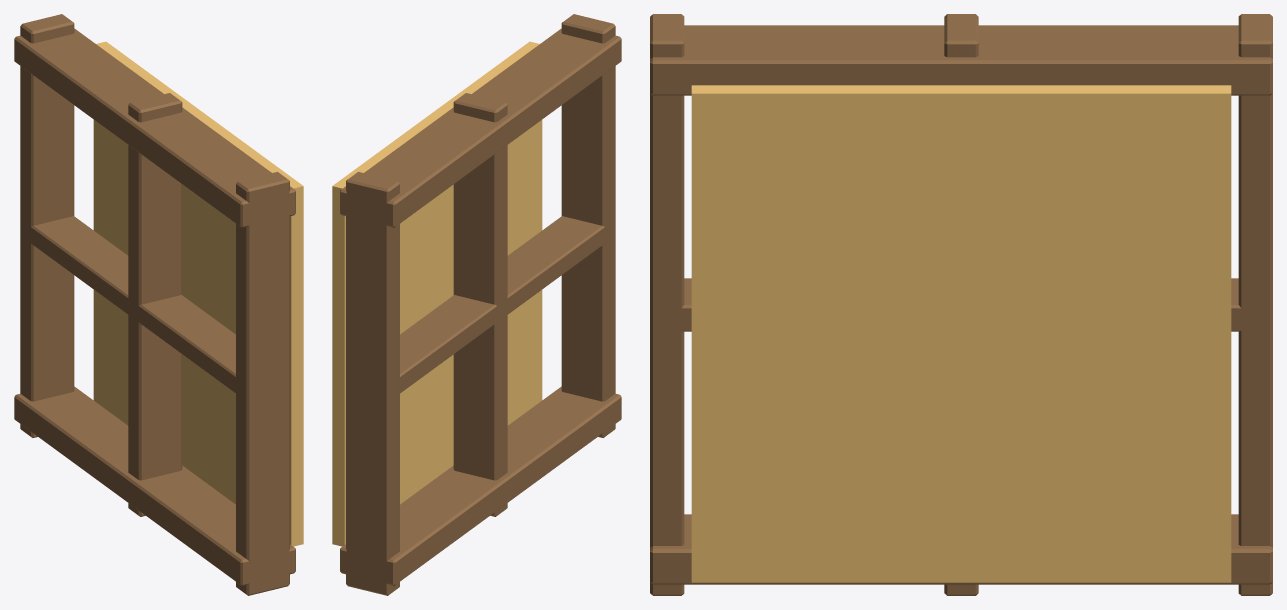
Rendered from SM_WL_WindowDouble.fbx.
3 renders of one model, left to right at view 1: azimuth 30°, elevation 25°; view 2: azimuth 150°, elevation 25°; view 3: azimuth 270°, elevation 25°, orthographic. The views are drawn at different scales.
Parts seen in each view (by area): view 1: SM_WL_WindowDouble; view 2: SM_WL_WindowDouble; view 3: SM_WL_WindowDouble.
Boxes of the visible parts, left/top/right/bottom form: SM_WL_WindowDouble: left=14, top=14, right=303, bottom=595; SM_WL_WindowDouble: left=332, top=14, right=621, bottom=595; SM_WL_WindowDouble: left=650, top=14, right=1272, bottom=595.
Size of the model in its own units: 1.27 by 0.25 by 1.25.
